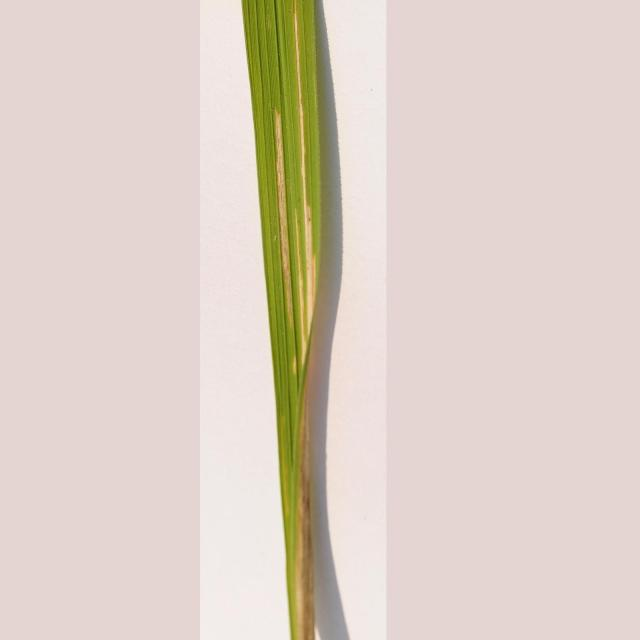Bacterial leaf blight: (198, 0, 384, 640)
